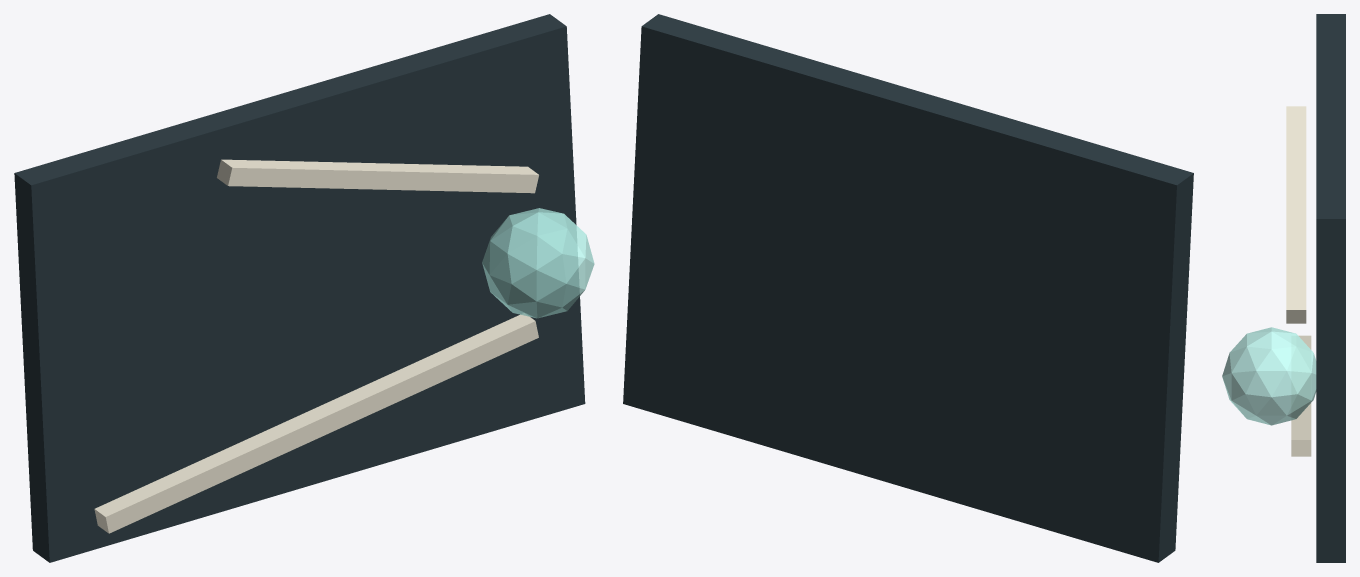
File: 02_world_prop_polish.glb
The picture shows the model from 3 angles, left to right: view 1: azimuth 30°, elevation 25°; view 2: azimuth 150°, elevation 25°; view 3: azimuth 270°, elevation 25°; orthographic projection. The views are drawn at different scales.
Visible parts, largest first — view 1: object_overlay_plate, edge_wear_a, glow_socket, edge_wear_b; view 2: object_overlay_plate; view 3: object_overlay_plate, glow_socket, edge_wear_b, edge_wear_a.
Part boxes in pixels (left/top/right/bottom): object_overlay_plate: left=14, top=14, right=585, bottom=562; edge_wear_a: left=94, top=313, right=538, bottom=533; glow_socket: left=482, top=208, right=594, bottom=318; edge_wear_b: left=217, top=159, right=538, bottom=193; object_overlay_plate: left=623, top=14, right=1193, bottom=562; object_overlay_plate: left=1316, top=14, right=1345, bottom=562; glow_socket: left=1222, top=327, right=1316, bottom=425; edge_wear_b: left=1286, top=106, right=1306, bottom=323; edge_wear_a: left=1291, top=335, right=1311, bottom=456.
Size of the model in its own units: 1.14 by 0.8047 by 0.25.
